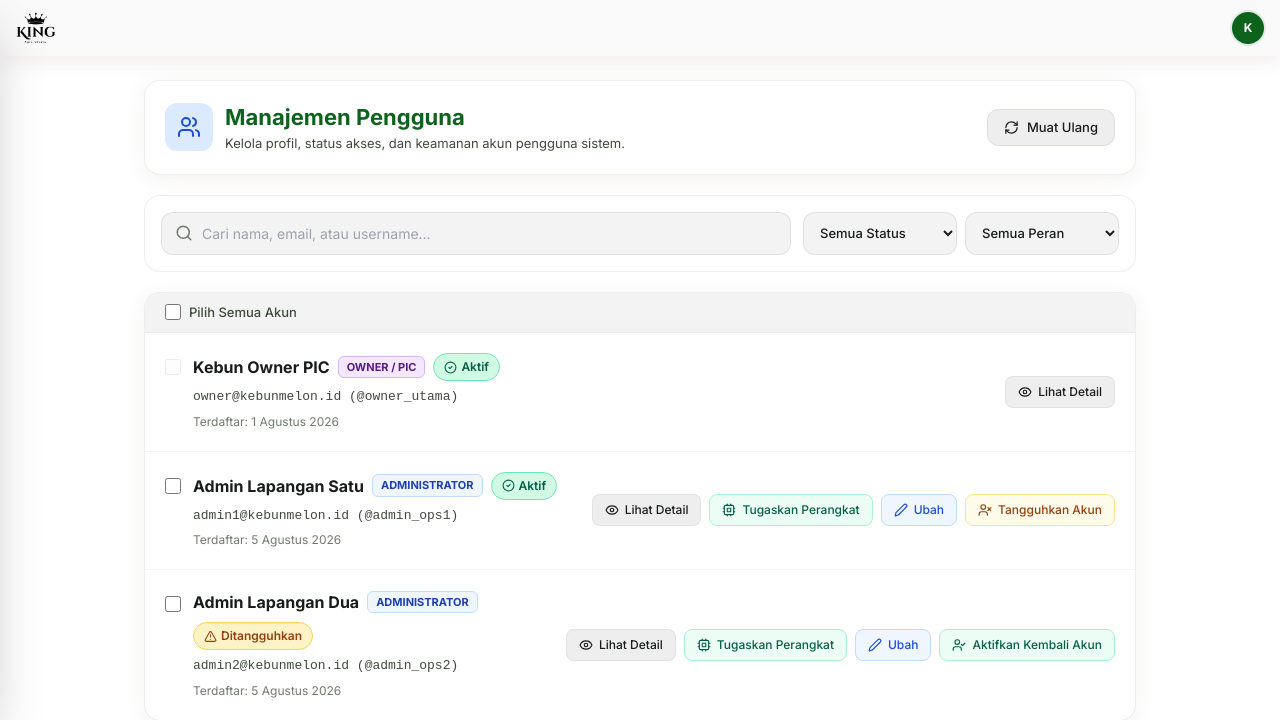
Test: TASK-0212 User Management UI Improvements › 3. Select All checkbox selects all eligible non-owner accounts and shows bulk actions banner
Check: the heading "Admin Lapangan Satu" is shown, box [193,474,364,498]
Click select all
Click the checkbox labelled "Pilih Semua Akun" at (173, 312), box [165,304,181,320]
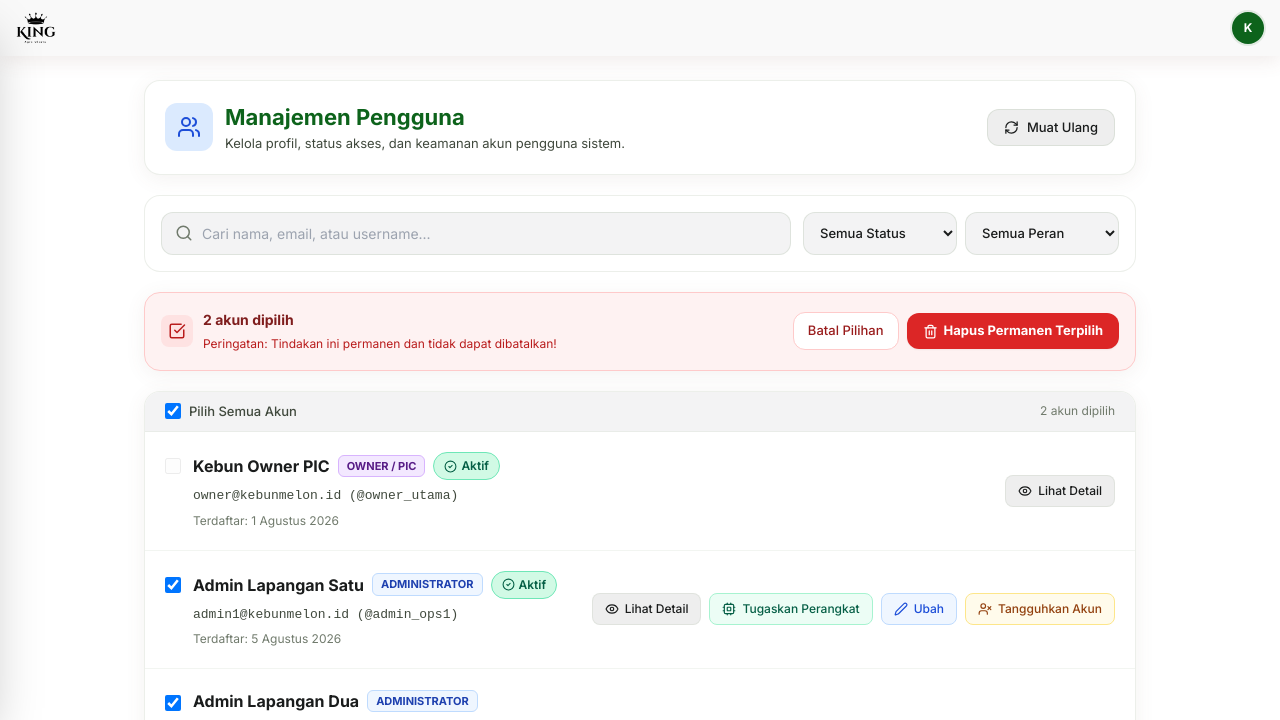
Check: the text "Hapus Permanen Terpilih" is shown, box [944,321,1103,341]
Check: the button "Batal Pilihan" is shown
Click Batal Pilih clears selection
Click the button "Batal Pilihan" at (846, 331), box [793,312,898,350]
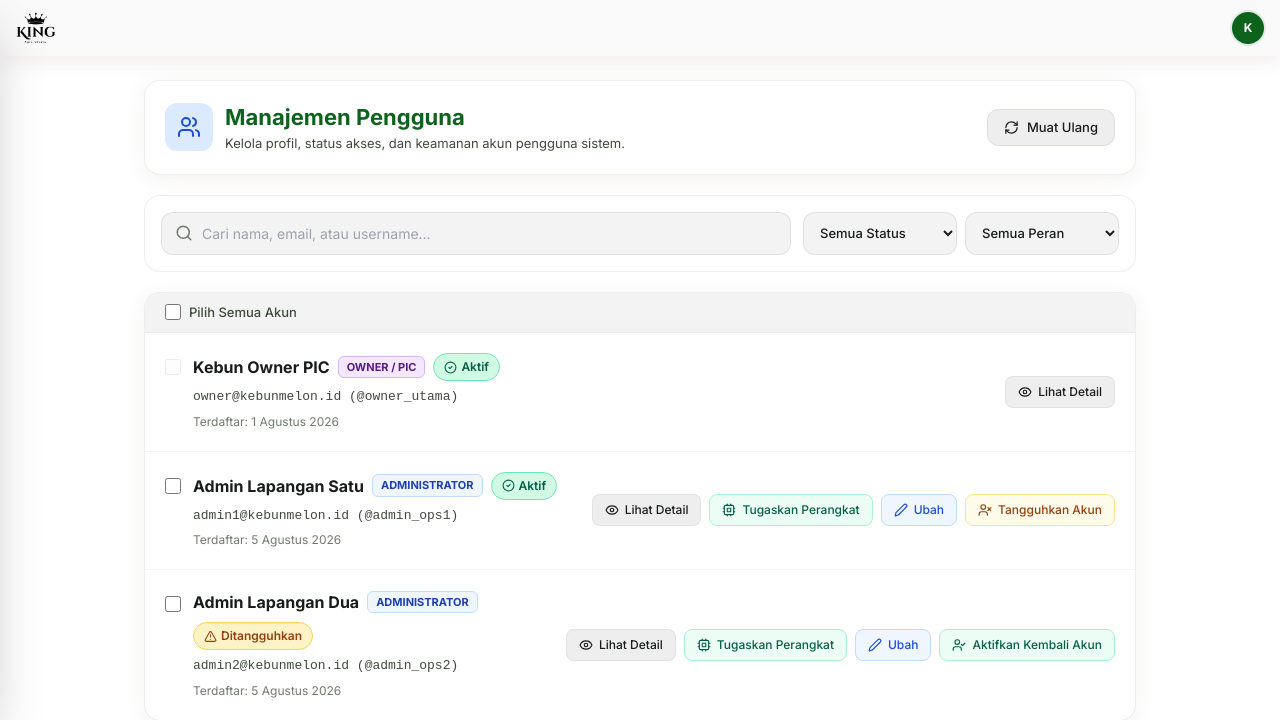
Check: the button "Batal Pilihan" is gone
